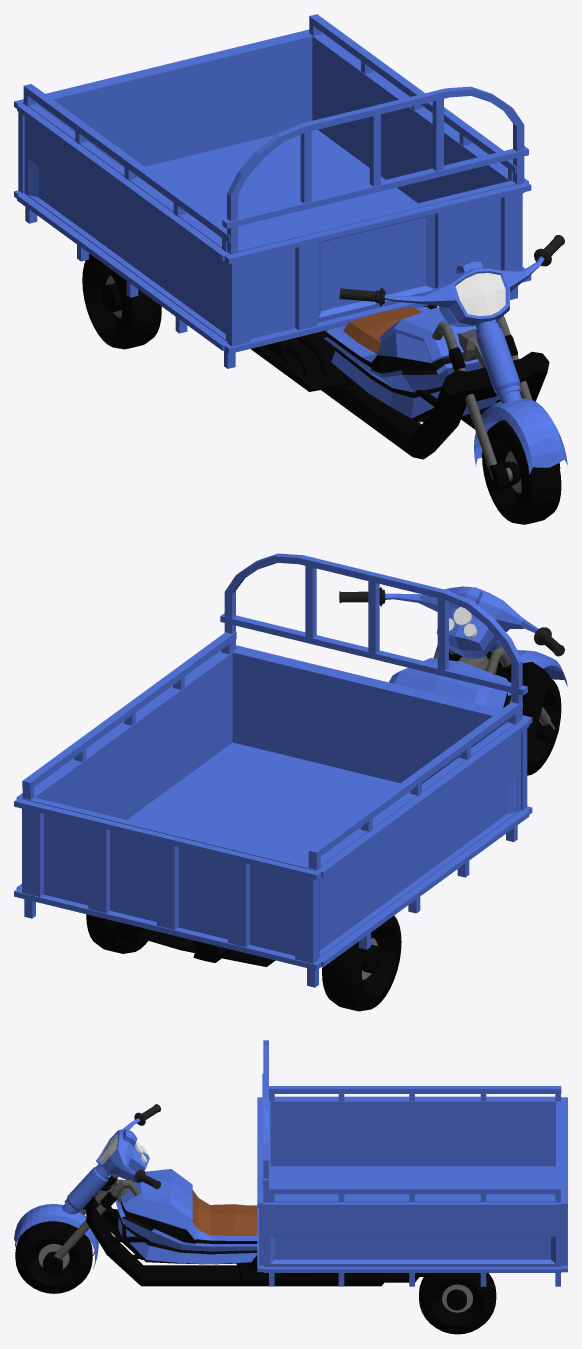
The model's file is tricycle.glb.
3 views of the same model, one above another, from view 1: azimuth 30°, elevation 25°; view 2: azimuth 150°, elevation 25°; view 3: azimuth 270°, elevation 25° (orthographic). The views are drawn at different scales.
Visible parts, largest first — view 1: Cube.005, Cube.006, Cube.008, Cube.009, Cube.007, Cube.002, Cube.003, Cube, Cylinder.002, Cylinder.026, Cylinder.001, Cube.029 (+21 smaller); view 2: Cube.006, Cube.009, Cube.008, Cube.005, Cube.007, Cylinder.026, Cube, Cube.039, Cube.033, Cube.029, Cube.015, Cube.002 (+22 smaller); view 3: Cube.008, Cube.007, Cube.002, Cube.009, Cube.001, Cylinder.002, Cylinder.025, Cube.033, Cube.039, Cube.004, Cube.010, Cube (+10 smaller).
Boxes of the visible parts, x1,y1,x2,y2 form: Cube.005: (24,33,312,195); Cube.006: (226,181,516,341); Cube.008: (28,104,225,340); Cube.009: (136,129,417,246); Cube.007: (312,34,510,203); Cube.002: (323,306,499,422); Cube.003: (321,367,495,459); Cube: (384,256,544,326); Cylinder.002: (482,420,561,524); Cylinder.026: (82,253,161,349); Cylinder.001: (474,398,567,474); Cube.029: (222,146,528,228); Cube.006: (232,649,520,811); Cube.009: (127,742,410,864); Cube.008: (319,722,517,957); Cube.005: (23,797,319,958); Cube.007: (34,652,232,819); Cylinder.026: (322,915,401,1011); Cube: (385,586,538,658); Cube.039: (308,701,522,859); Cube.033: (22,631,236,789); Cube.029: (220,613,527,695); Cube.015: (14,798,321,880); Cube.002: (389,658,511,709); Cube.008: (270,1098,555,1166); Cube.007: (270,1199,555,1266); Cube.002: (115,1169,257,1264); Cube.009: (270,1166,555,1198); Cube.001: (86,1196,383,1286); Cylinder.002: (15,1221,92,1293); Cylinder.025: (419,1273,496,1334); Cube.033: (269,1186,561,1194); Cube.039: (269,1086,561,1093); Cube.004: (264,1202,561,1208); Cube.010: (264,1267,561,1272); Cube: (96,1118,149,1182).
Size of the model in its own units: 9.34 by 8.87 by 20.28.
